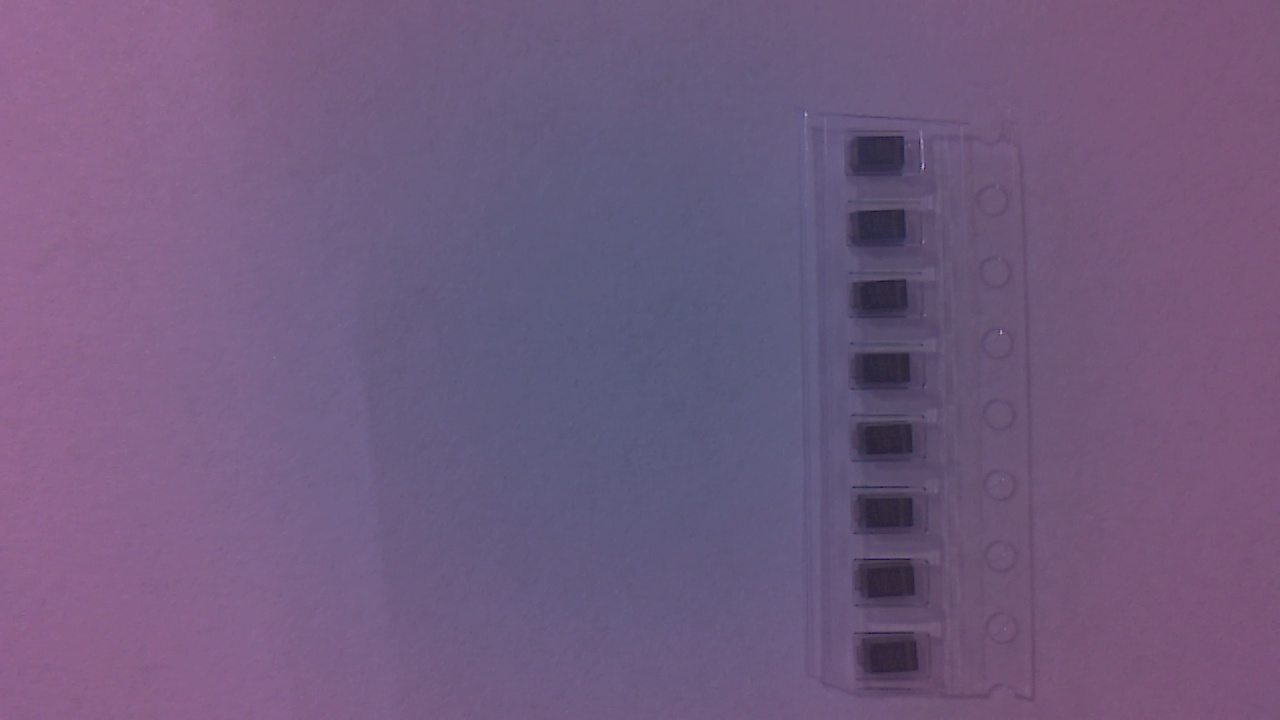Diode: (858, 638, 930, 684), (853, 500, 923, 542), (848, 138, 915, 177), (856, 354, 924, 392), (852, 210, 919, 248), (859, 567, 926, 604), (854, 282, 920, 319), (854, 427, 922, 461)
